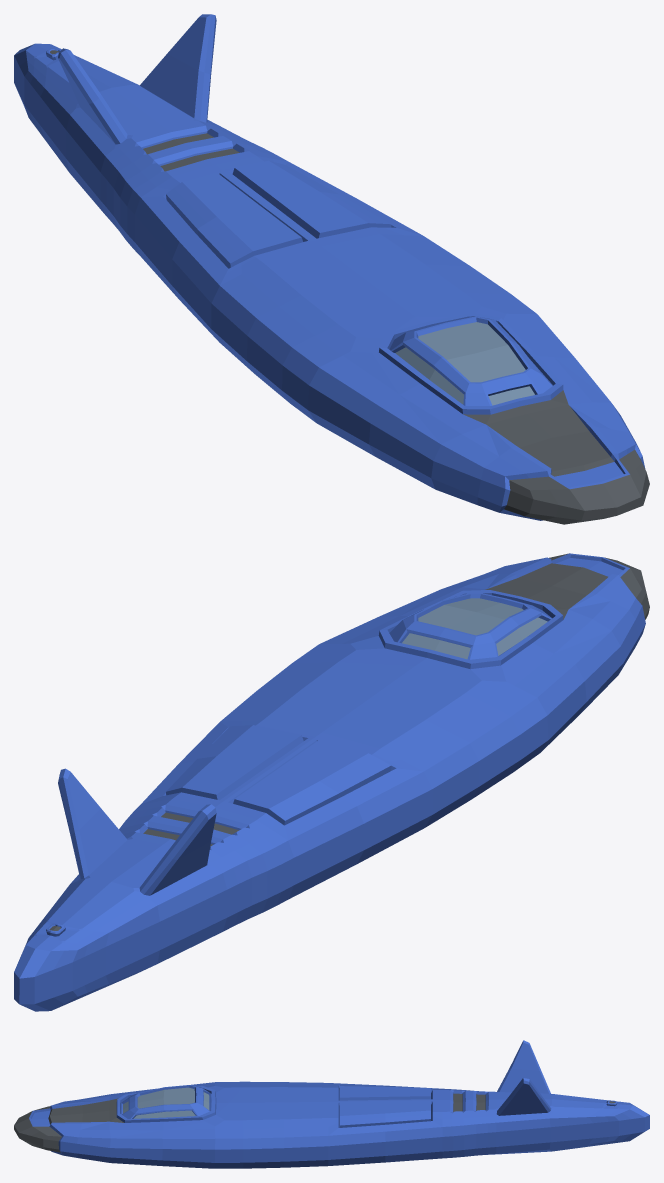
The model's file is Fighter_02_Body_Blue.fbx.
3 views of the same model, one above another, from view 1: azimuth 30°, elevation 25°; view 2: azimuth 150°, elevation 25°; view 3: azimuth 270°, elevation 25° (orthographic). The views are drawn at different scales.
Visible parts, largest first — view 1: Fighter_02_Body_Blue; view 2: Fighter_02_Body_Blue; view 3: Fighter_02_Body_Blue.
Boxes of the visible parts, x1,y1,x2,y2 form: Fighter_02_Body_Blue: (14, 14, 649, 524); Fighter_02_Body_Blue: (14, 553, 649, 1011); Fighter_02_Body_Blue: (14, 1040, 649, 1168).
Size of the model in its own units: 300 by 198 by 1294.
Materials: 3 (3 with a texture image).
